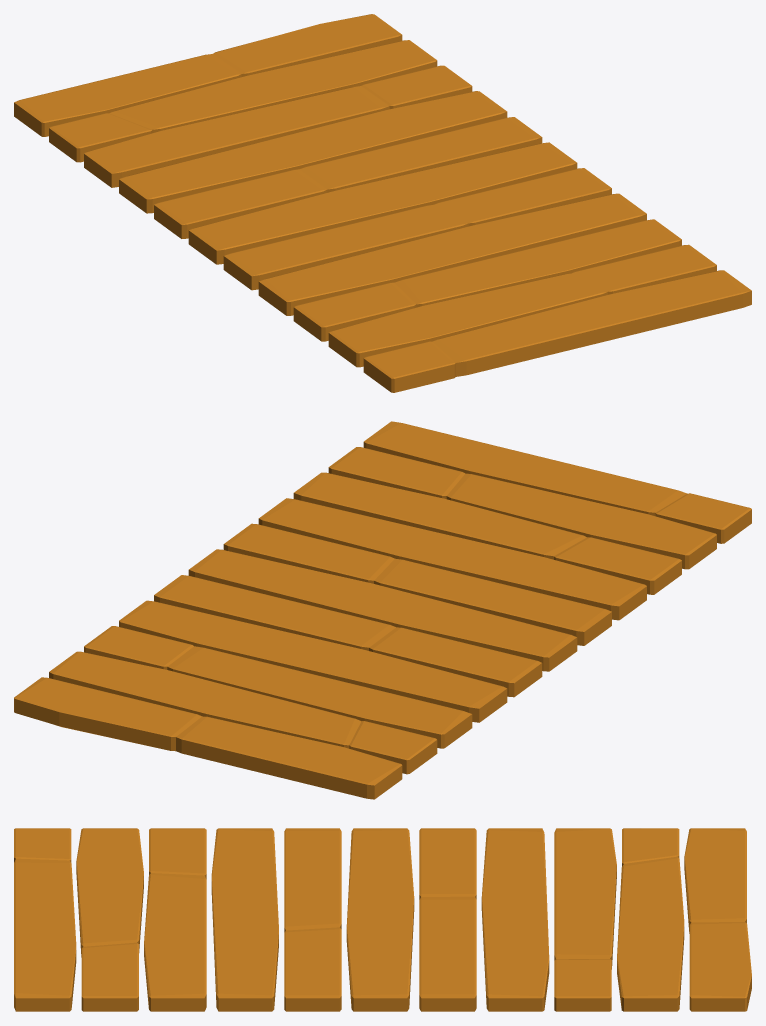
Rendered from Mid-Pont.fbx.
3 renders of one model, top to bottom at view 1: azimuth 30°, elevation 25°; view 2: azimuth 150°, elevation 25°; view 3: azimuth 270°, elevation 25°, orthographic. The views are drawn at different scales.
Parts seen in each view (by area): view 1: Mid-Pont_LOD0; view 2: Mid-Pont_LOD0; view 3: Mid-Pont_LOD0.
Part boxes in pixels (x1,y1,x2,y2): Mid-Pont_LOD0: (14,14,751,392); Mid-Pont_LOD0: (14,421,751,799); Mid-Pont_LOD0: (14,828,751,1011).
Size of the model in its own units: 440 by 807 by 17.6.
